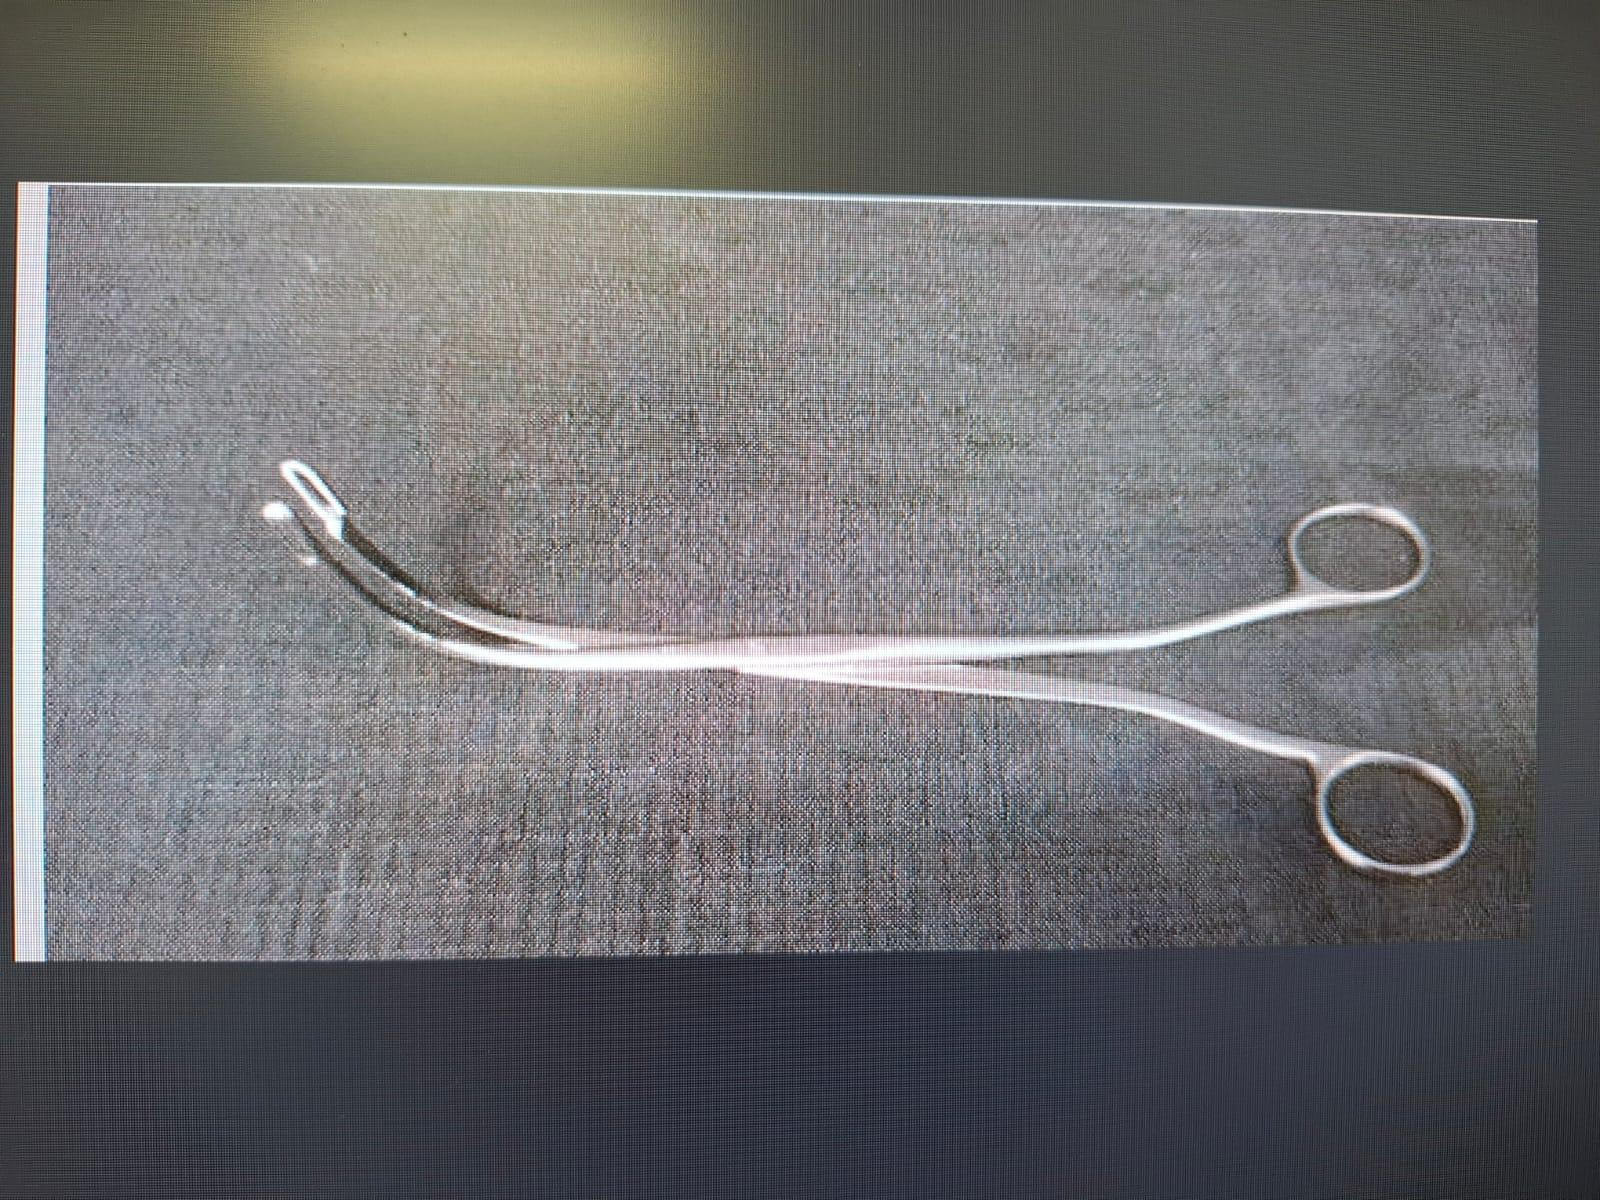Randall Forceps: (244, 418, 1484, 896)
